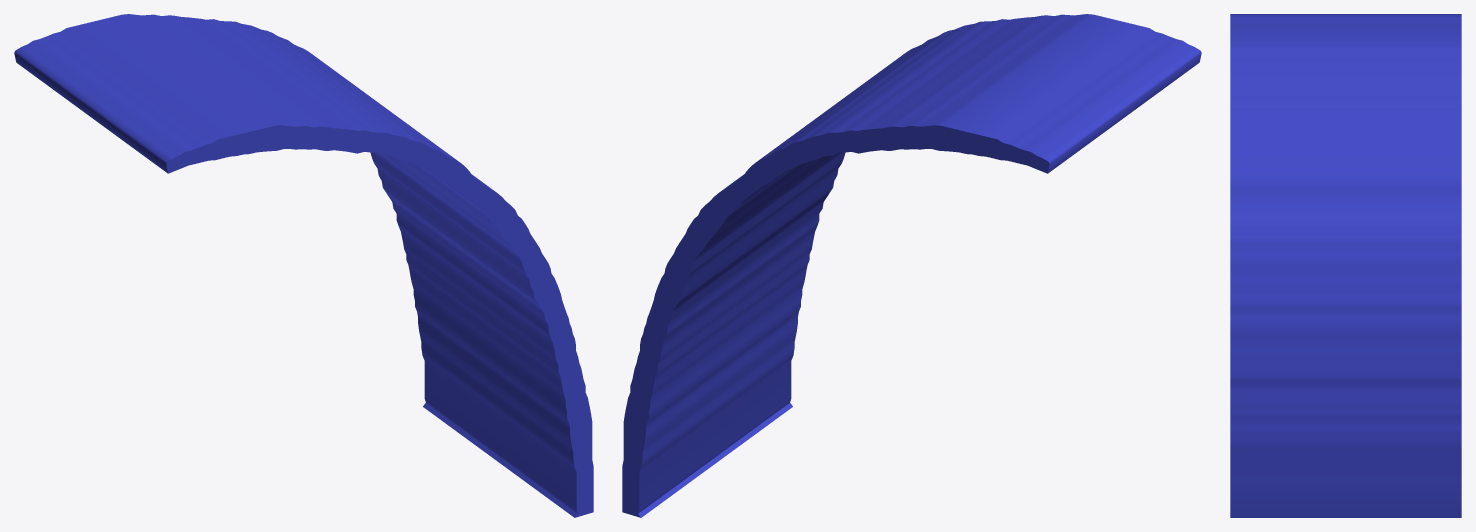
Rendered from Path.fbx.
3 views of the same model, side by side, from view 1: azimuth 30°, elevation 25°; view 2: azimuth 150°, elevation 25°; view 3: azimuth 270°, elevation 25° (orthographic). The views are drawn at different scales.
Parts seen in each view (by area): view 1: root; view 2: root; view 3: root.
Part boxes in pixels (x1,y1,x2,y2): root: [14, 14, 593, 517]; root: [622, 14, 1201, 517]; root: [1230, 14, 1461, 517].
Size of the model in its own units: 0.3991 by 0.4153 by 0.2458.
